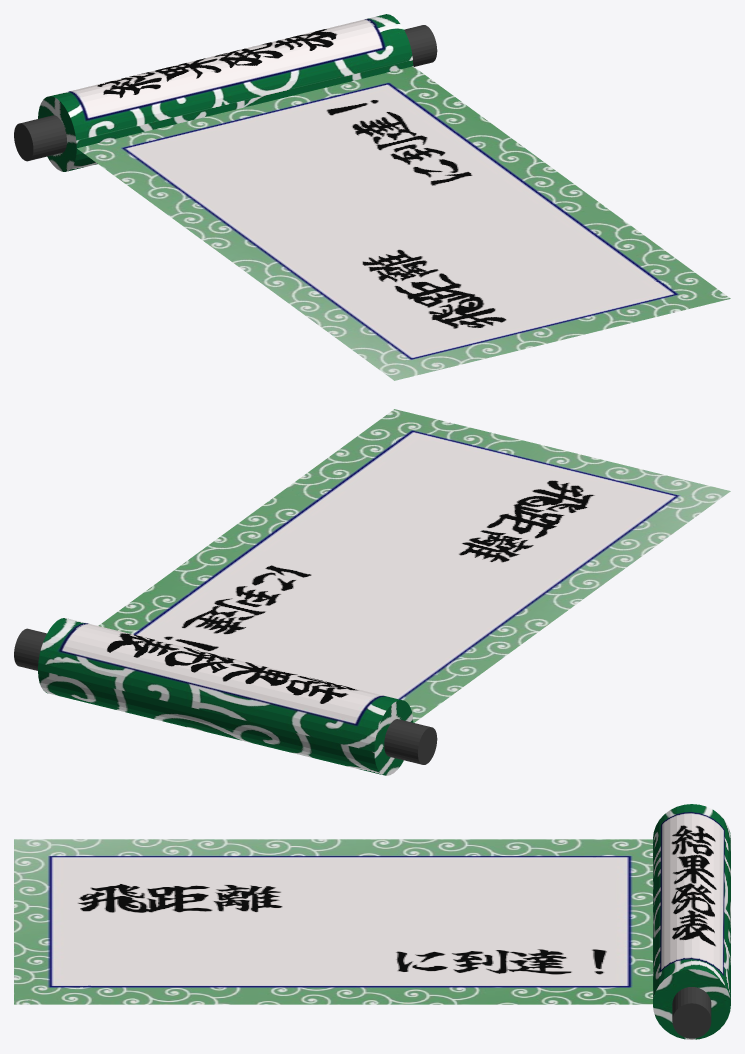
The model's file is makimono2.fbx.
The picture shows the model from 3 angles, top to bottom: view 1: azimuth 30°, elevation 25°; view 2: azimuth 150°, elevation 25°; view 3: azimuth 270°, elevation 25°; orthographic projection.
Parts seen in each view (by area): view 1: 平面, 円柱, 円柱.001; view 2: 平面, 円柱, 円柱.001; view 3: 平面, 円柱, 円柱.001.
Part boxes in pixels (x1,y1,x2,y2): 平面: [77, 66, 730, 380]; 円柱: [38, 14, 413, 171]; 円柱.001: [14, 25, 437, 161]; 平面: [98, 409, 730, 722]; 円柱: [38, 618, 413, 775]; 円柱.001: [14, 628, 437, 764]; 平面: [14, 839, 652, 1004]; 円柱: [653, 804, 730, 1039]; 円柱.001: [672, 987, 711, 1038].
Size of the model in its own units: 120 by 20 by 184.
Materials: 3 (2 with a texture image).
